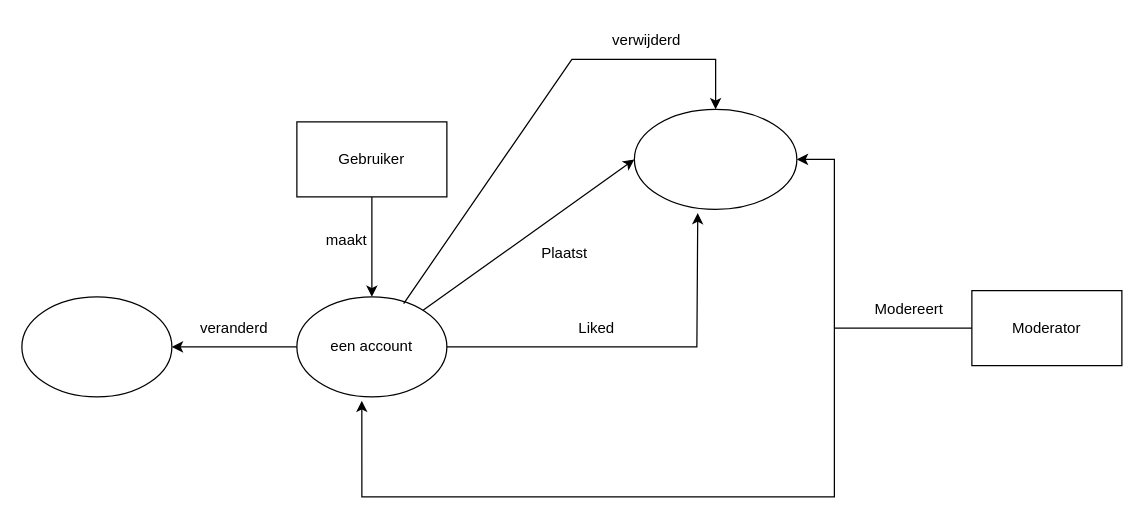
This 1144x529 diagram has some shape labels left out. Here are the shapes that lost their labels. From the top down, the centre of each, then its label:
At (x=715, y=158): "een post".
At (x=96, y=346): "een profielfoto".
